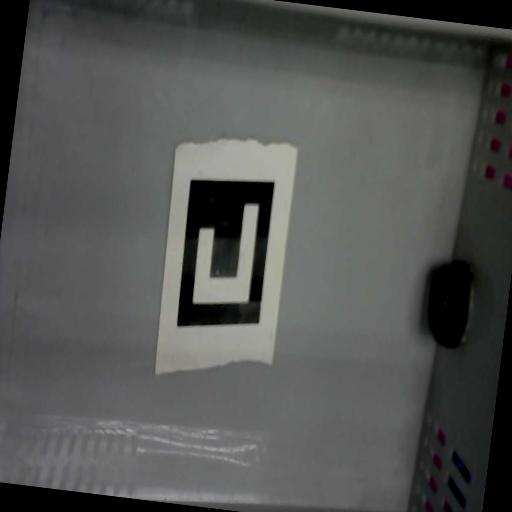QR: (148, 130, 299, 388)
